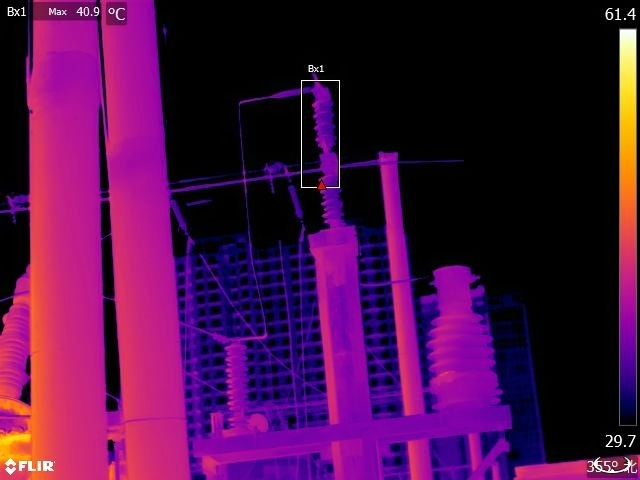insulator: (289, 181, 306, 224), (173, 199, 189, 235)
post insulator: (416, 290, 505, 387), (310, 88, 346, 219), (223, 343, 249, 422)
tube: (1, 255, 36, 411)
